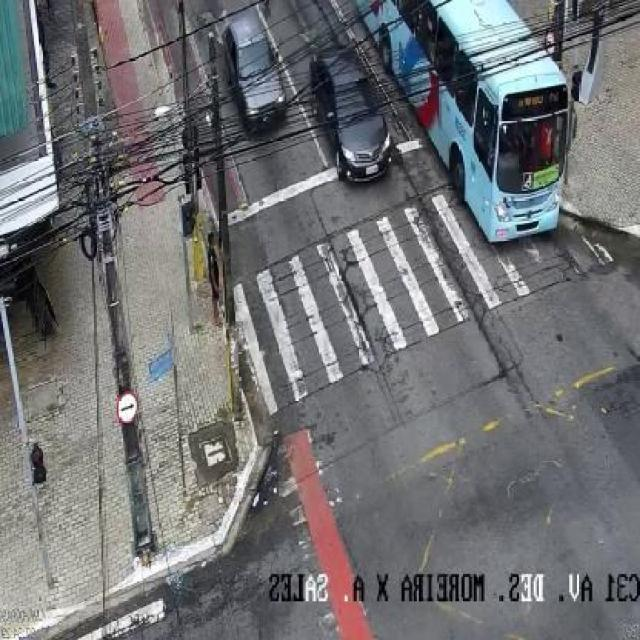bus: (358, 0, 570, 242)
car: (311, 51, 391, 182), (224, 9, 286, 132)
road-signs: (118, 391, 138, 424)
traffic-lights: (30, 442, 46, 483)
